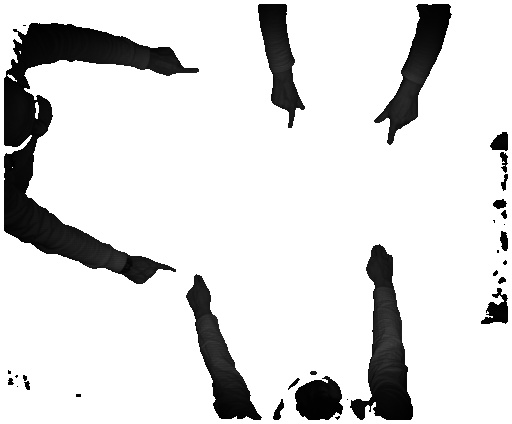hand: (369, 95, 421, 147), (270, 80, 311, 127), (360, 240, 399, 286), (129, 248, 175, 287), (184, 272, 222, 315), (151, 45, 199, 79)
